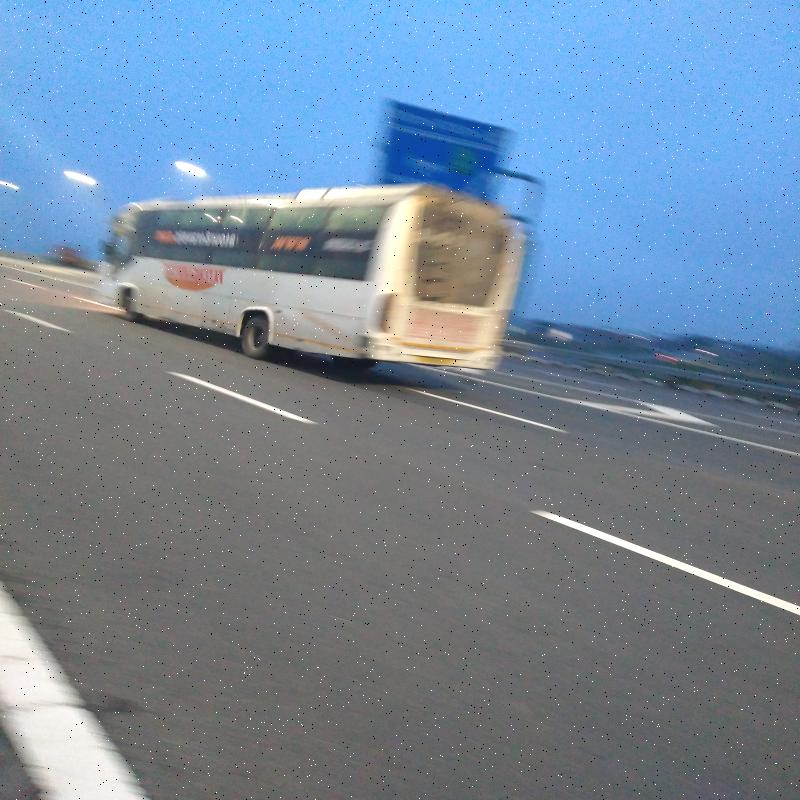bus: (113, 172, 546, 368)
